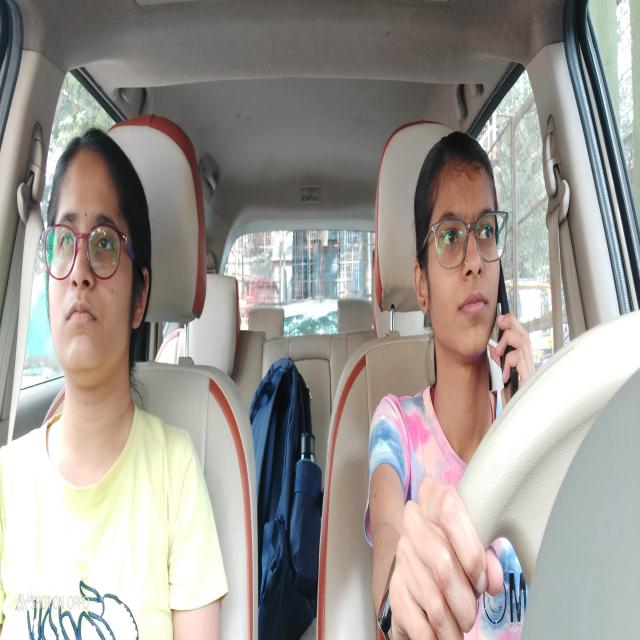mobile: (494, 267, 524, 403)
person: (39, 124, 152, 378), (414, 130, 504, 362)
